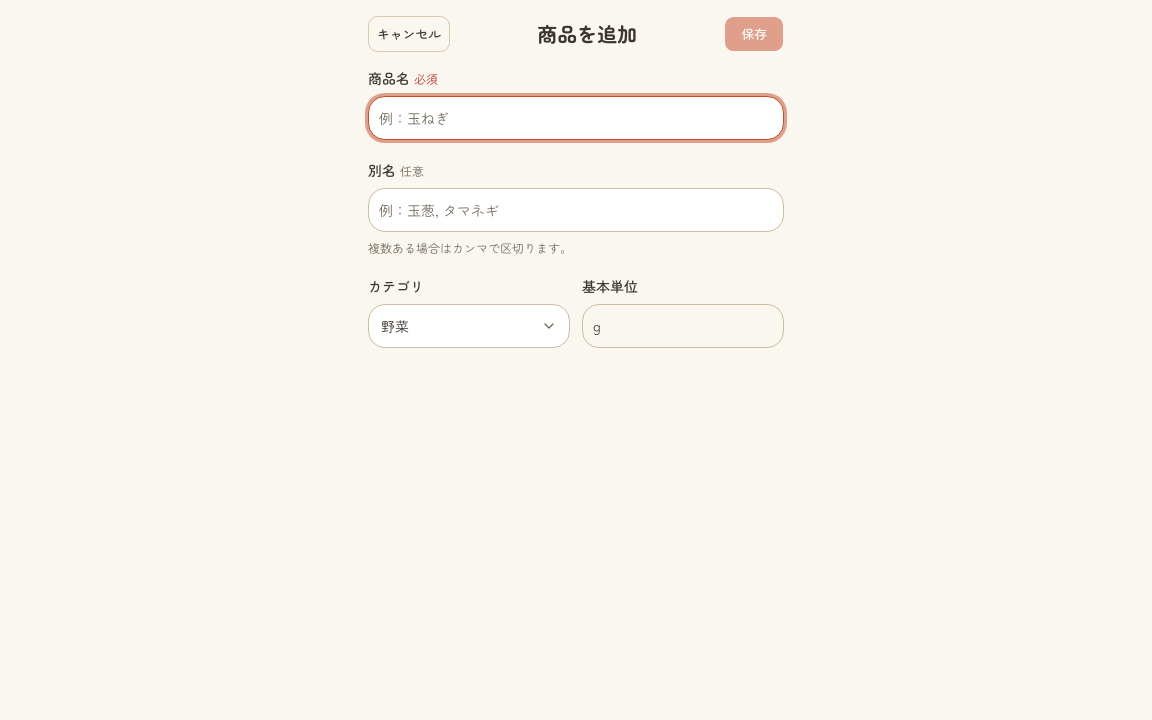
Scenario: ProductFormClient › PFC-04: 編集後にキャンセルすると確認ダイアログが出て遷移しない
Type "玉ねぎ" into the field labelled "商品名 必須" at {"x": 576, "y": 118}, box [368,96,784,140]
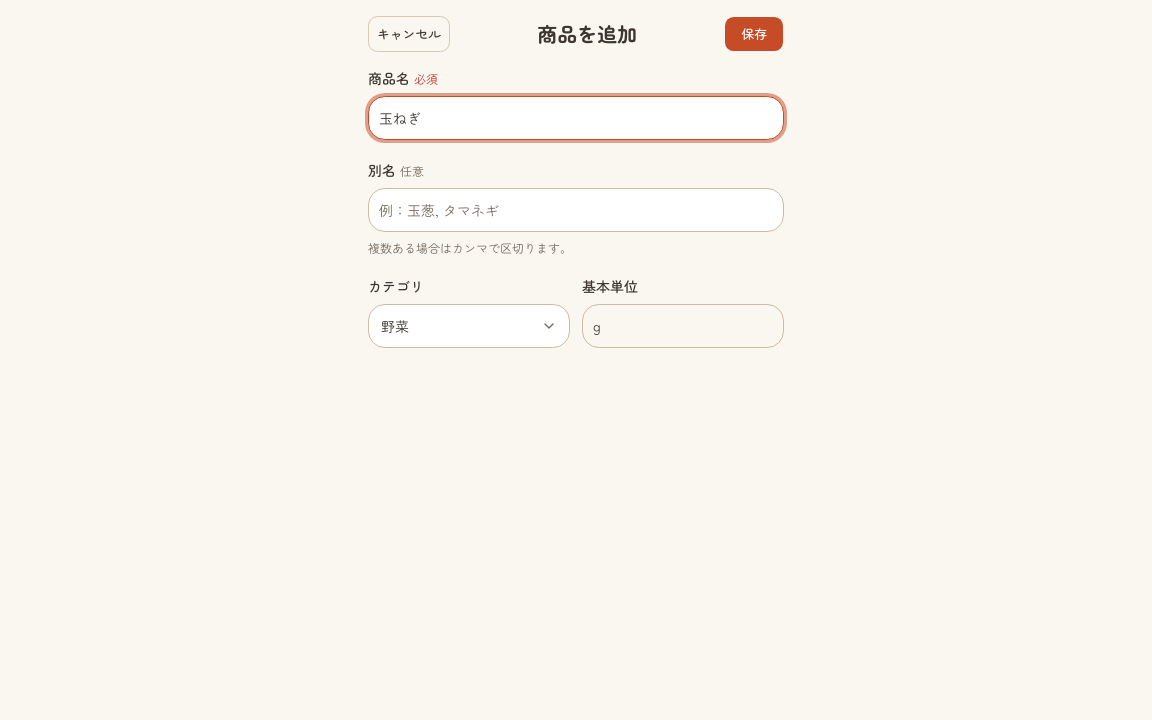
Click the button "キャンセル" at {"x": 409, "y": 34}, box [368,16,450,52]
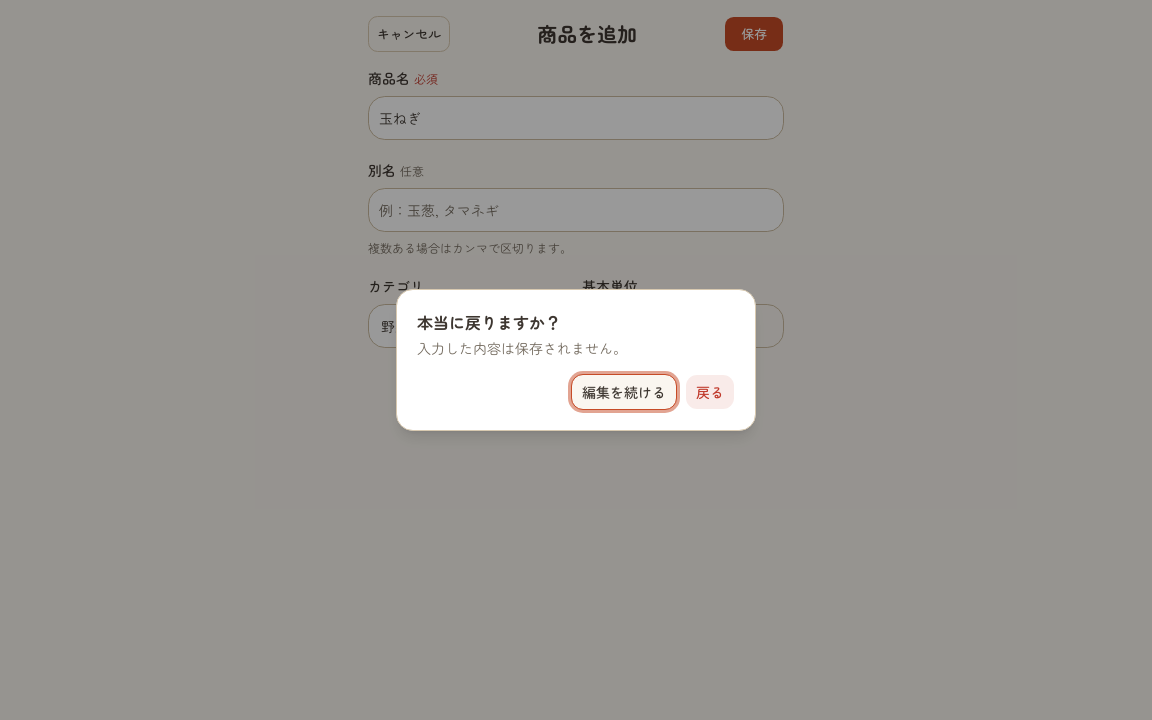
Now the heading "本当に戻りますか？" is shown, box [417,310,561,334]
